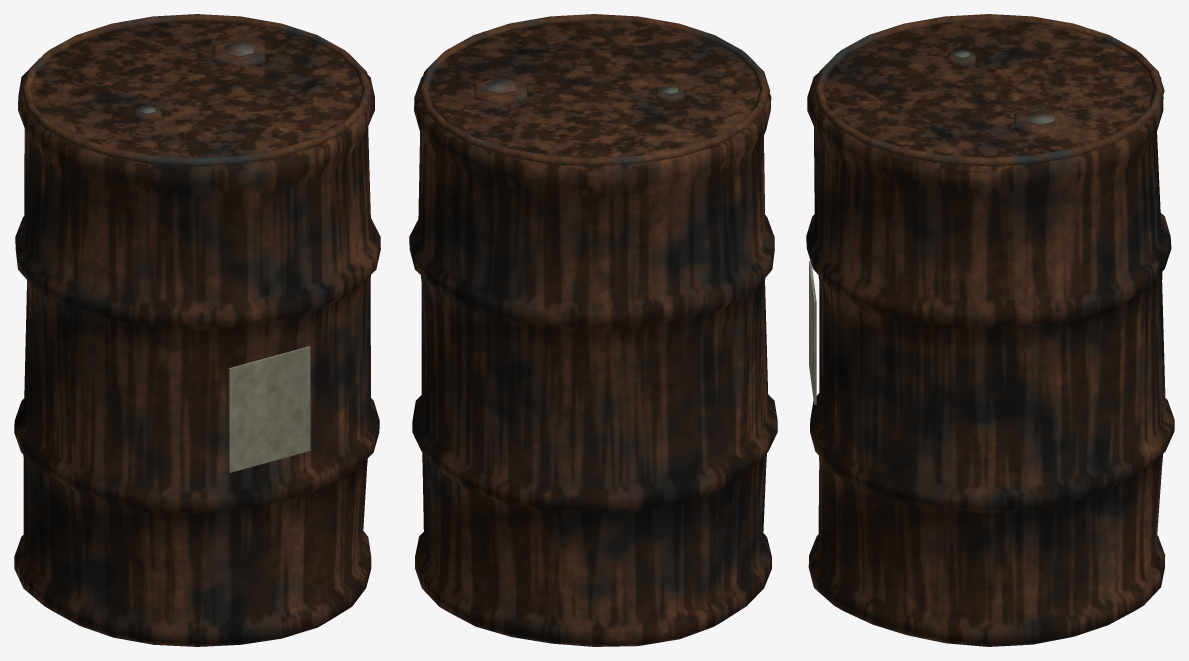
Rendered from oil_barrel.glb.
3 renders of one model, left to right at view 1: azimuth 30°, elevation 25°; view 2: azimuth 150°, elevation 25°; view 3: azimuth 270°, elevation 25°, orthographic.
Parts seen in each view (by area): view 1: oil_barrel; view 2: oil_barrel; view 3: oil_barrel.
Boxes of the visible parts, box(x1,y1,x2,y2) form: oil_barrel: box(14, 14, 380, 646); oil_barrel: box(409, 14, 777, 646); oil_barrel: box(806, 14, 1174, 646).
Size of the model in its own units: 0.6175 by 0.901 by 0.6128.
1 material, 1 textured.
